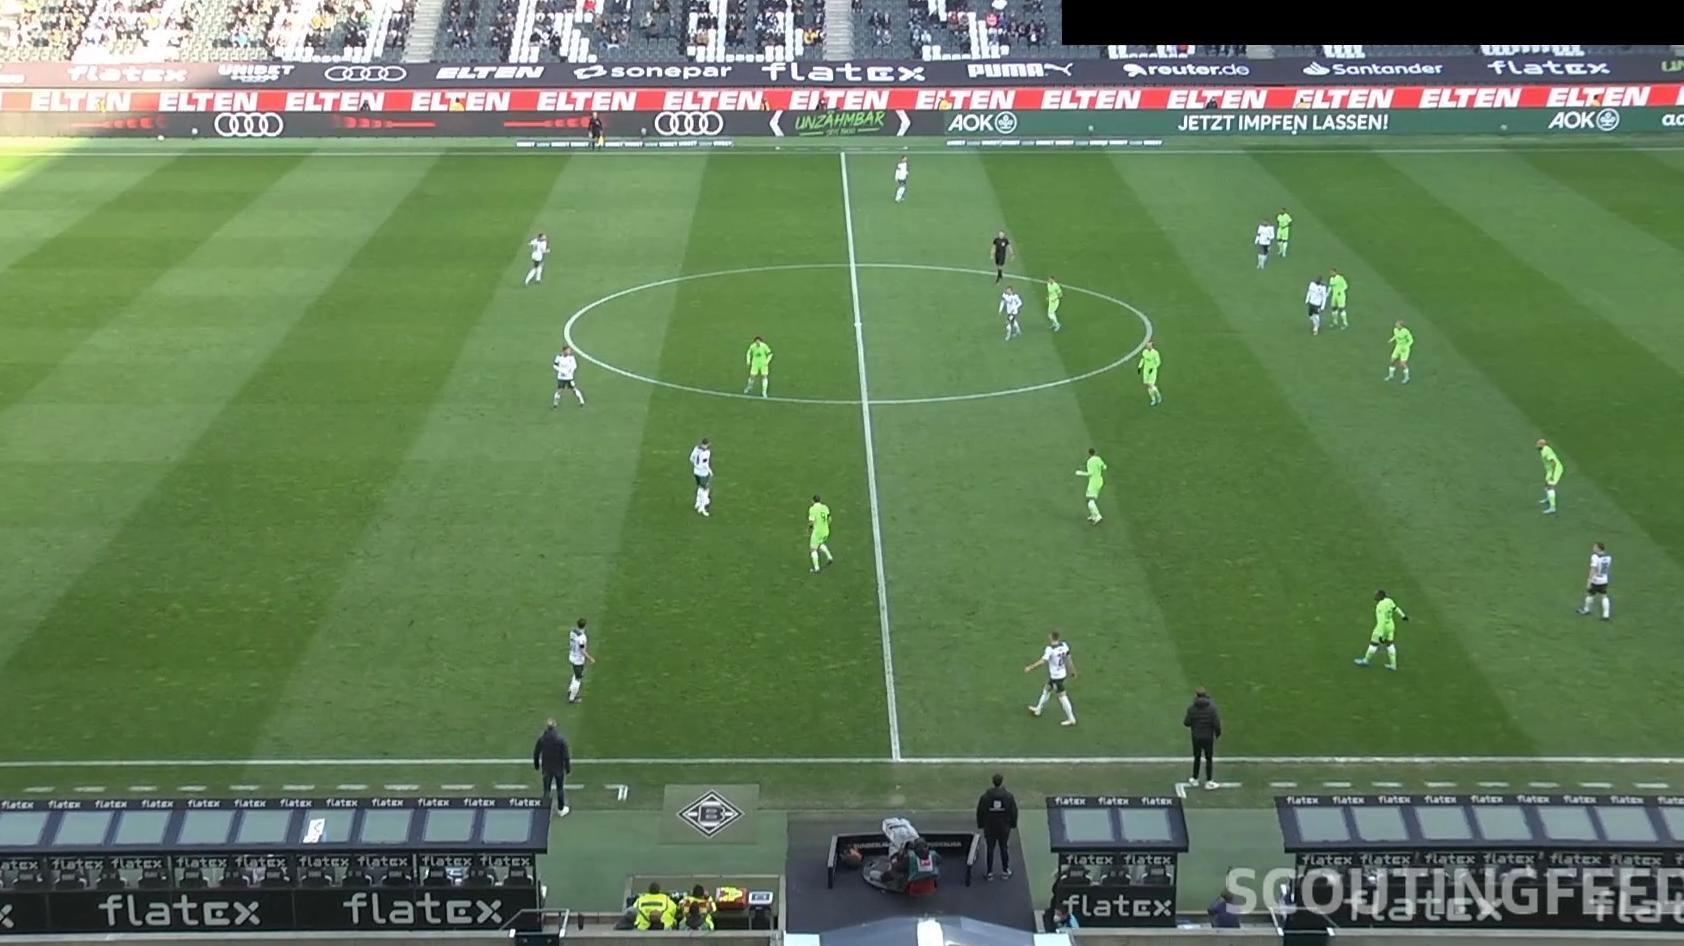ball: (698, 493, 711, 507)
